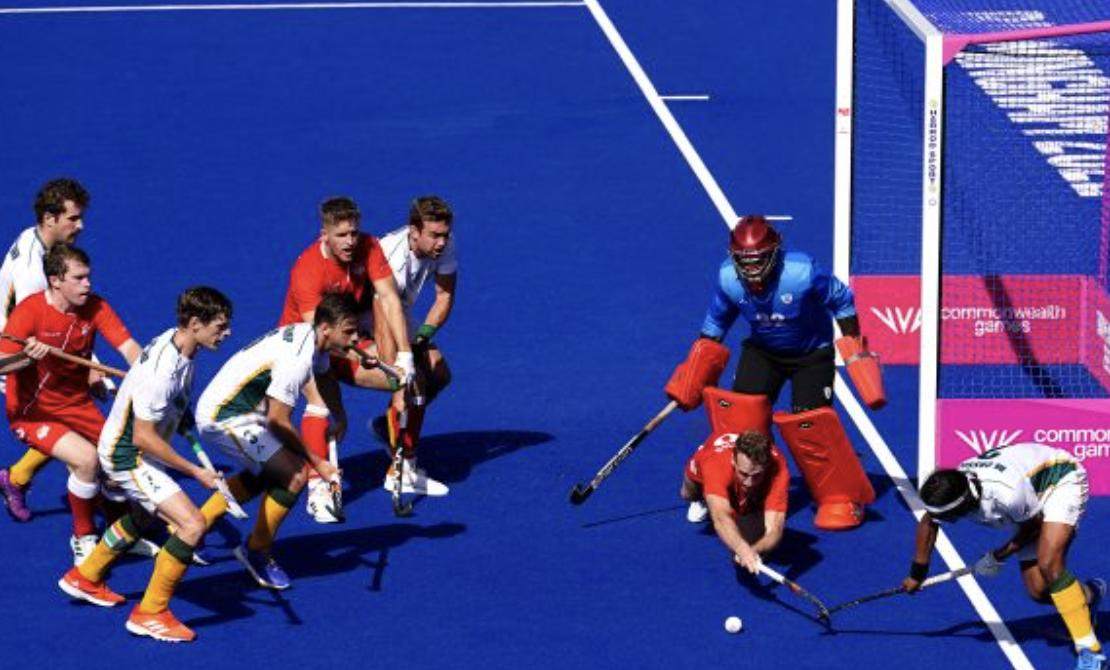ball: (724, 614, 750, 636)
